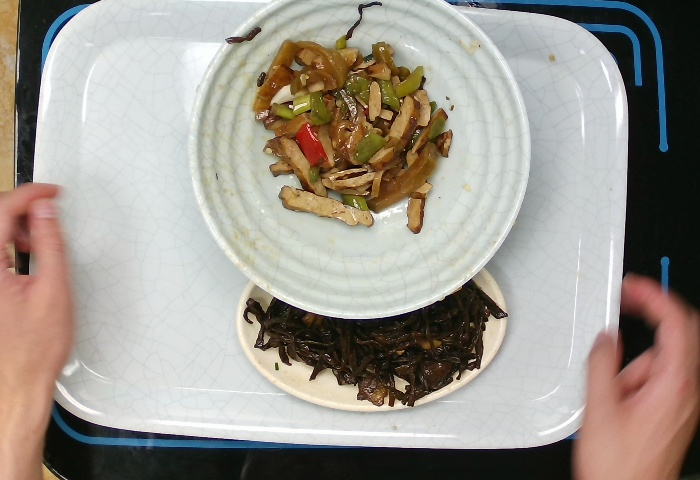JYsf-Da_Tang_Wan: (185, 1, 533, 323)
JYsf-Tuo_Yuan_Wan: (237, 278, 515, 412)
